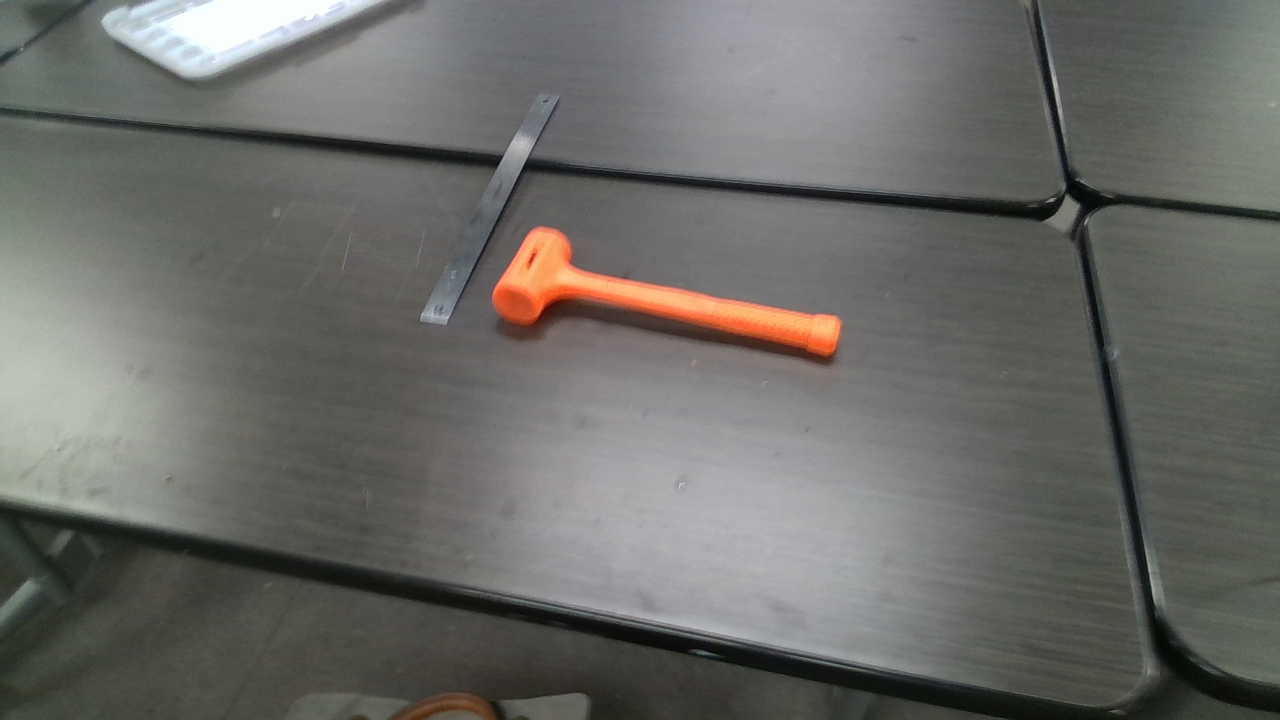Orange Hammer: (496, 227, 842, 357)
